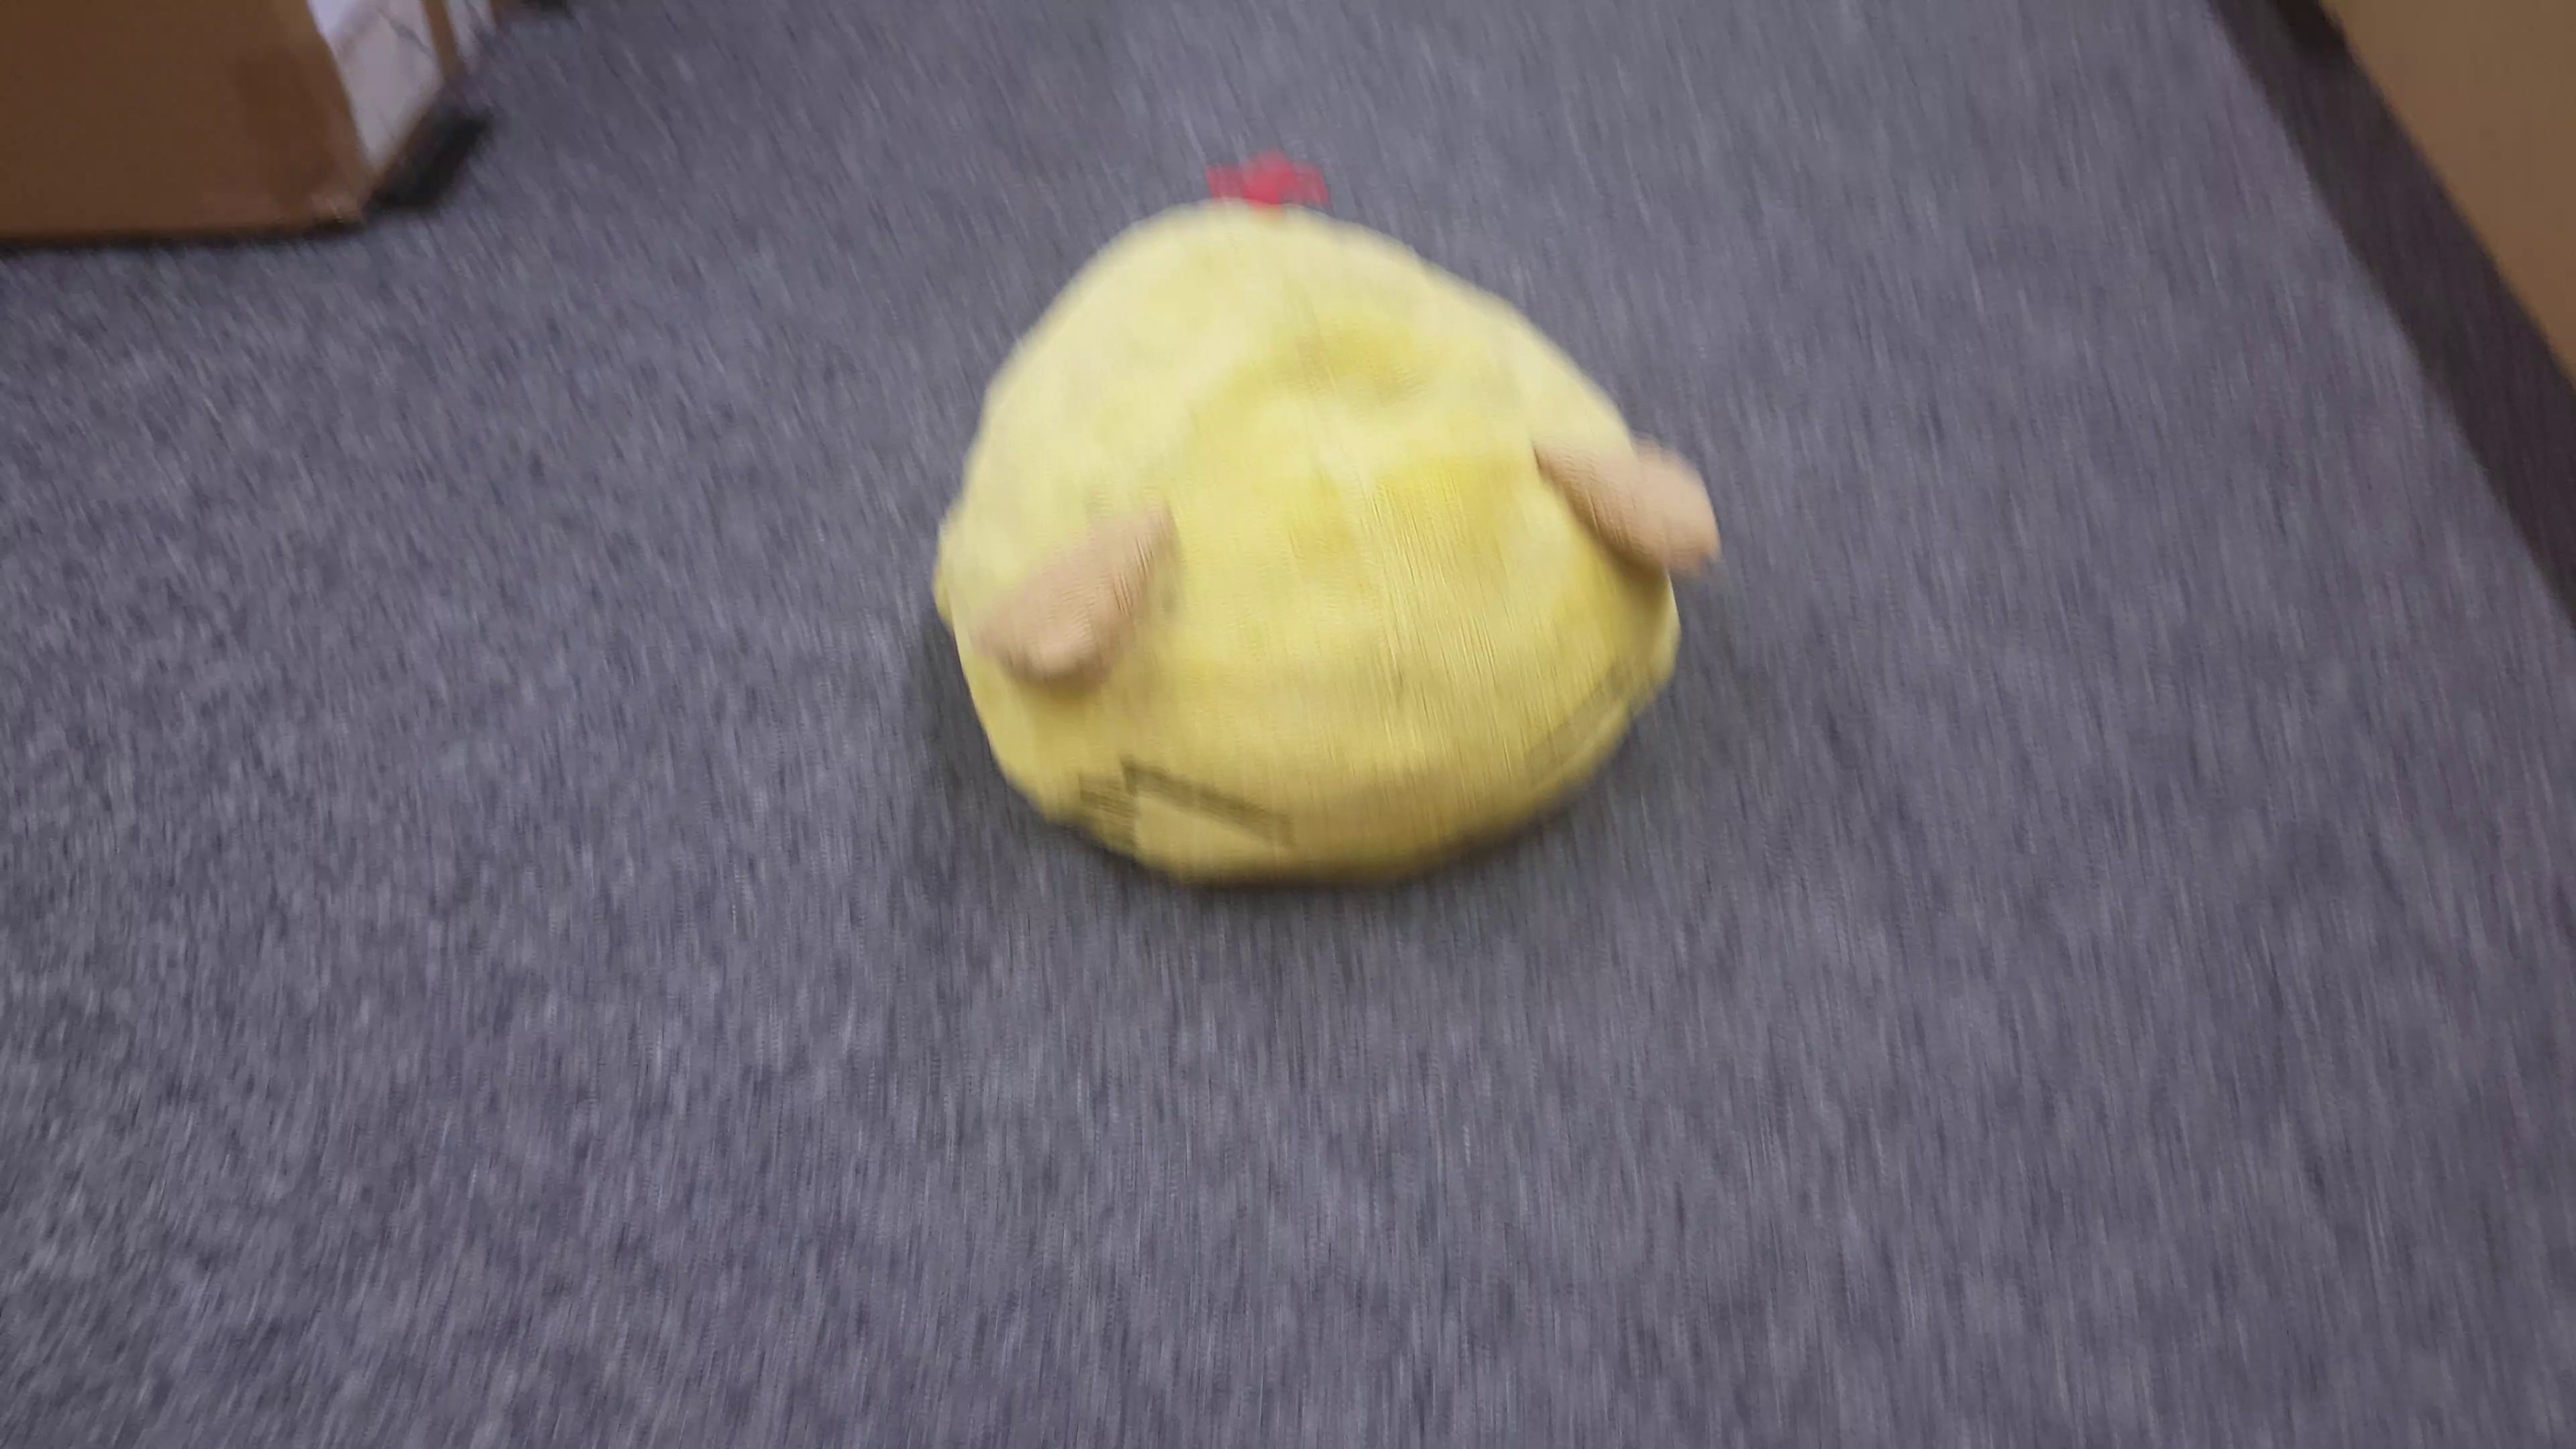grasp: (931, 200, 1714, 892)
